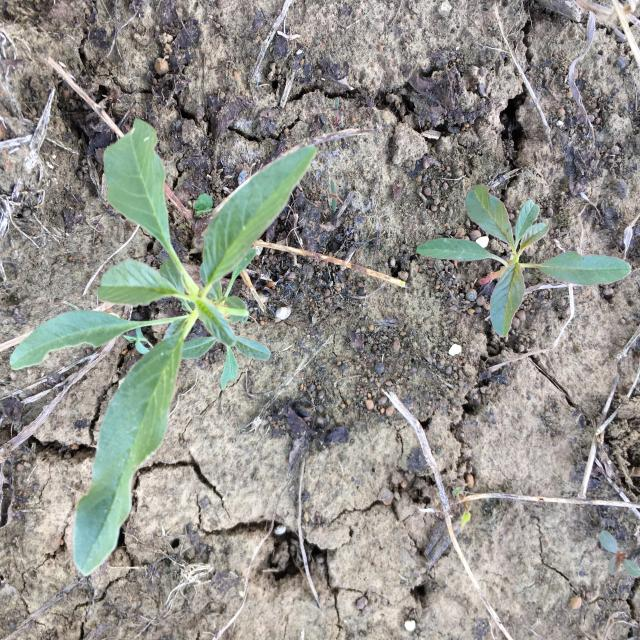Waterhemp: (9, 118, 318, 576), (416, 185, 632, 338), (599, 529, 640, 578)
